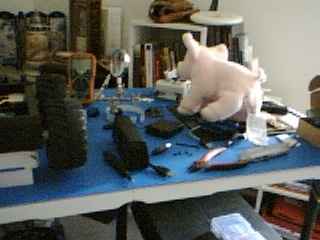piggy: (174, 32, 268, 123)
